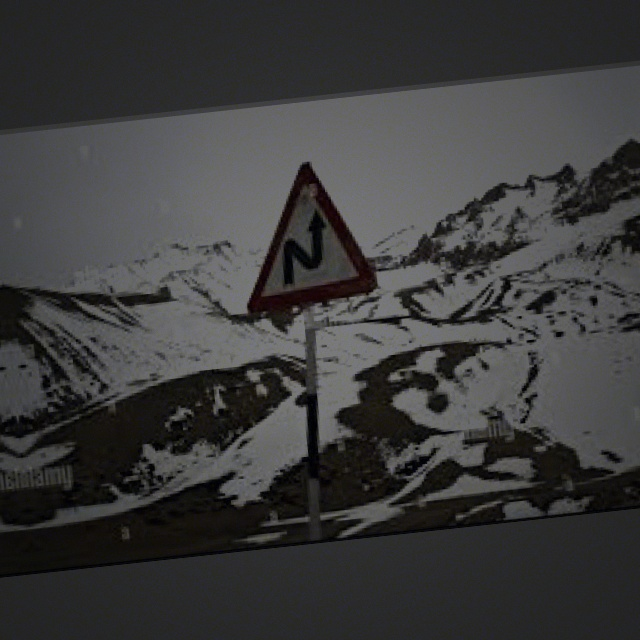Right_Reverse_Bend: (243, 156, 379, 318)
